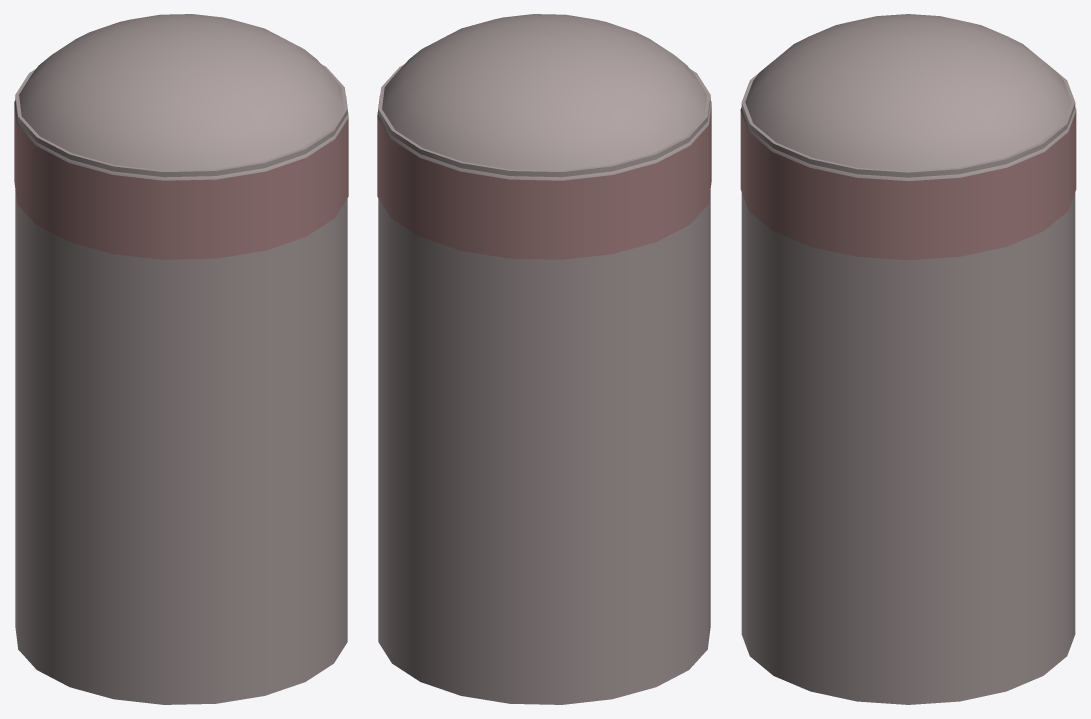
The model's file is road chode.fbx.
3 renders of one model, left to right at view 1: azimuth 30°, elevation 25°; view 2: azimuth 150°, elevation 25°; view 3: azimuth 270°, elevation 25°, orthographic.
Visible parts, largest first — view 1: pCylinder3; view 2: pCylinder3; view 3: pCylinder3.
Boxes of the visible parts, box(x1,y1,x2,y2) form: pCylinder3: box(14, 14, 348, 704); pCylinder3: box(377, 14, 711, 704); pCylinder3: box(740, 14, 1076, 704).
Size of the model in its own units: 1.26 by 2.47 by 1.26.
